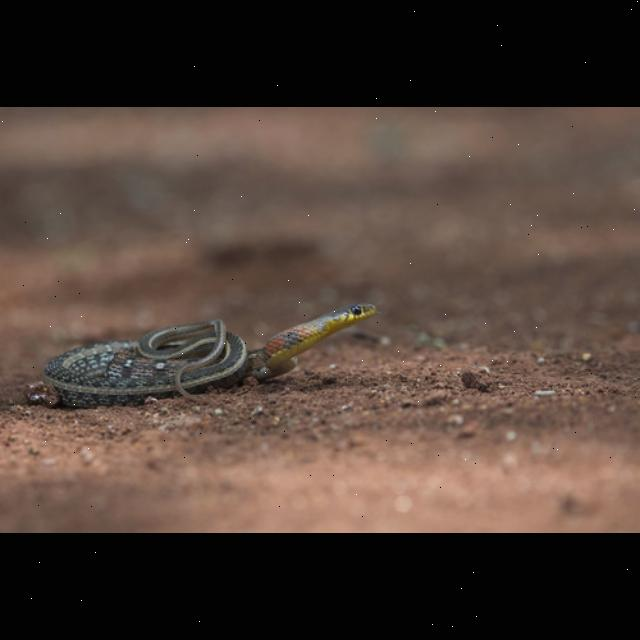snake: (42, 296, 386, 410)
